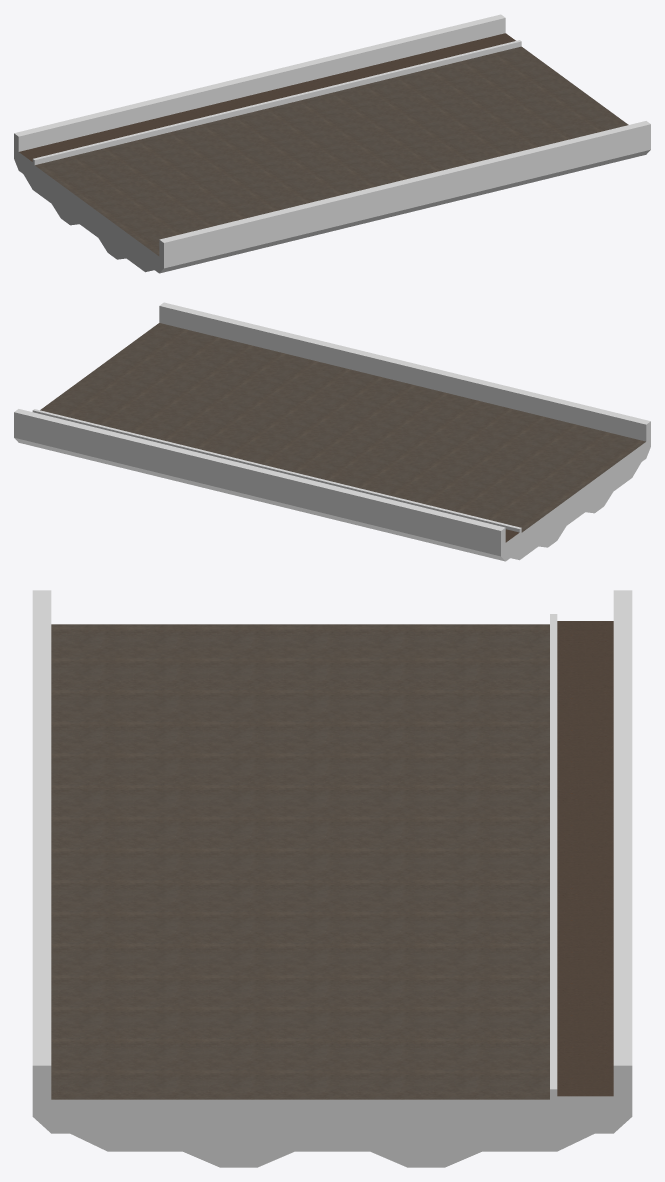
The model's file is Floor.glb.
3 renders of one model, top to bottom at view 1: azimuth 30°, elevation 25°; view 2: azimuth 150°, elevation 25°; view 3: azimuth 270°, elevation 25°, orthographic. The views are drawn at different scales.
Visible parts, largest first — view 1: Geom3D (×2), Geom3D_; view 2: Geom3D, Geom3D_; view 3: Geom3D (×2), Geom3D_.
Part boxes in pixels (x1,y1,x2,y2): Geom3D (×2): (19, 33, 628, 256); Geom3D_: (14, 14, 650, 273); Geom3D: (40, 323, 645, 532); Geom3D_: (14, 302, 650, 561); Geom3D (×2): (51, 621, 613, 1099); Geom3D_: (32, 590, 632, 1167).
Size of the model in its own units: 30 by 3 by 16.
Materials: 3 (3 with a texture image).
